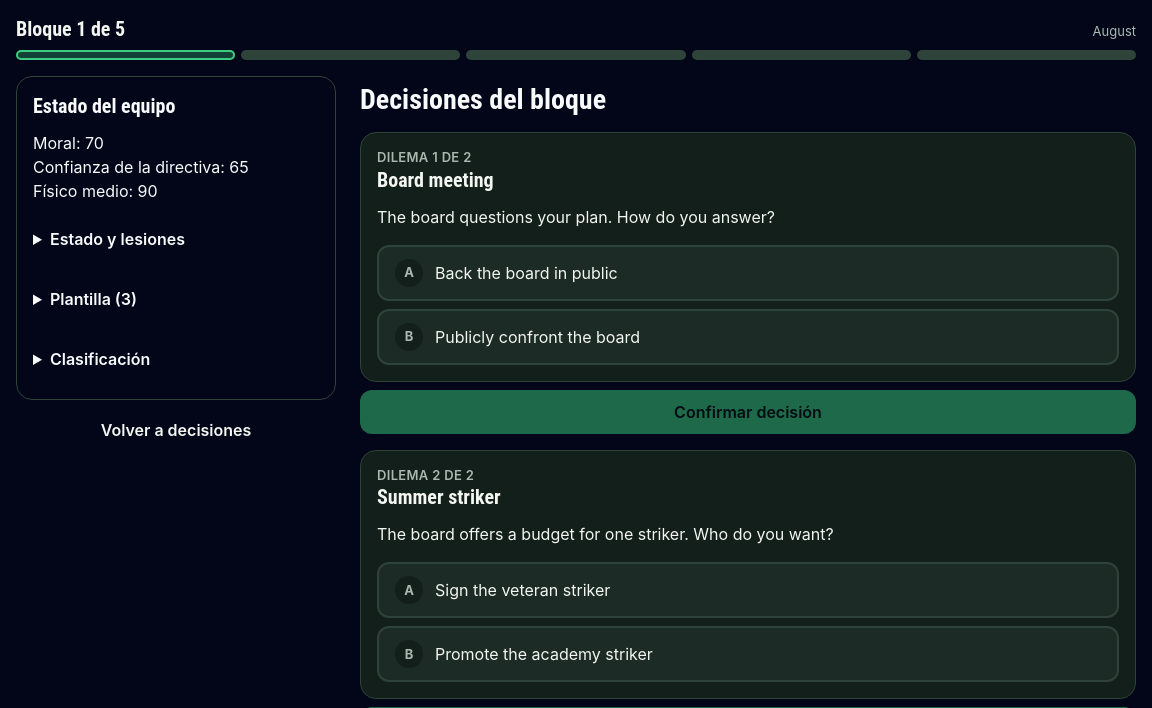
Scenario: RunLoop › shows only current state for a nonconsecutive command response
The image size is (1152, 708).
Check: the heading "Board meeting" is shown, box [377,168,494,192]
What coordinates should you click on to do the following:
click the button "A Back the board in public"
I would click on:
 (526, 273)
Its box is [377,245,1119,301].
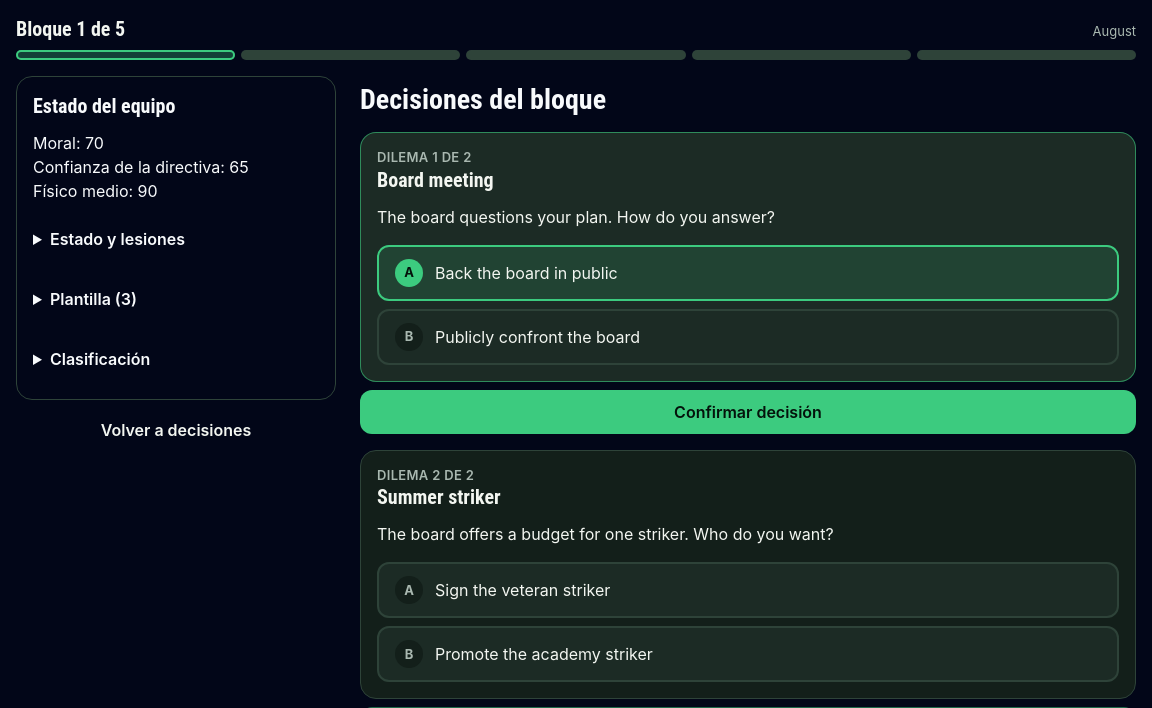
What coordinates should you click on to do the following:
click the button with aria-label "Confirmar: Board meeting"
I would click on:
 (748, 412)
Its box is [360,390,1136,434].
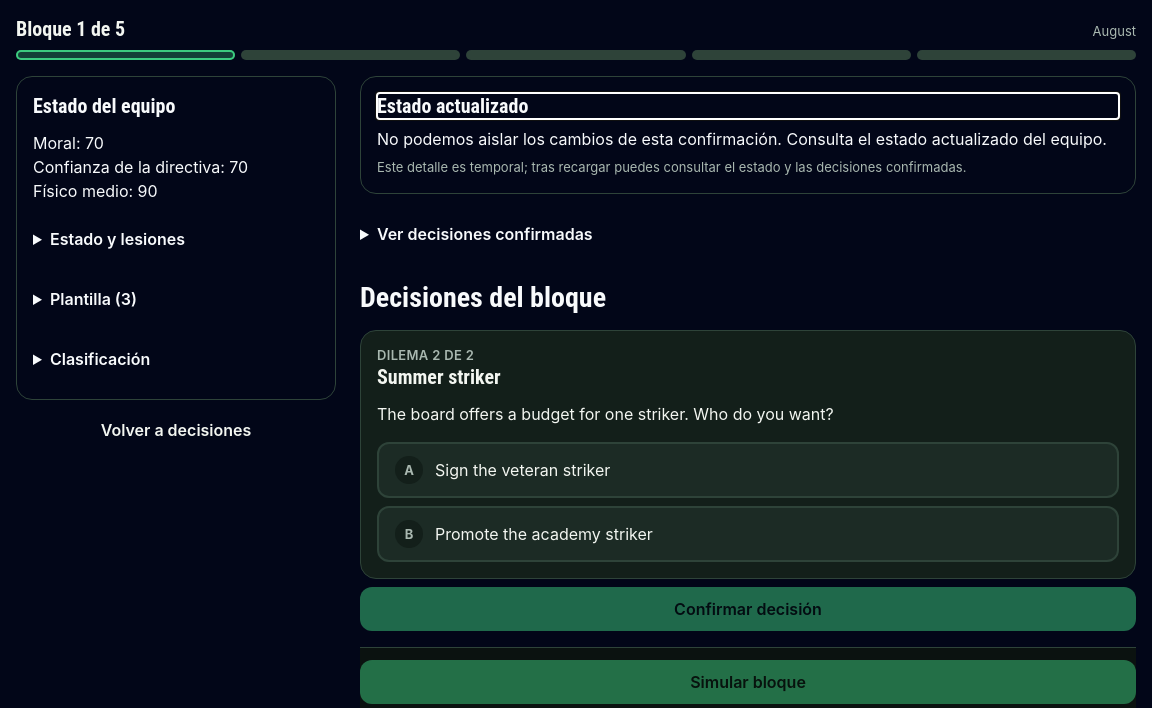
Check: the element "Estado del equipo" is shown, box [16,76,336,400]
Check: the heading "Estado actualizado" is shown, box [377,94,528,118]
